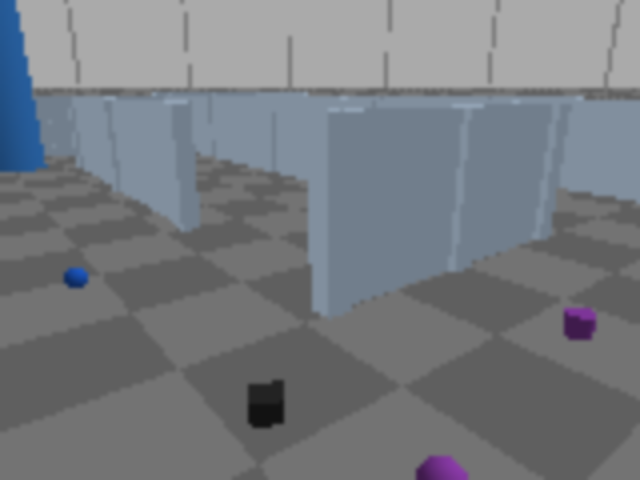person: (0, 0, 46, 173)
puck: (407, 437, 476, 478), (249, 381, 284, 428), (59, 261, 93, 295), (564, 308, 596, 340)
